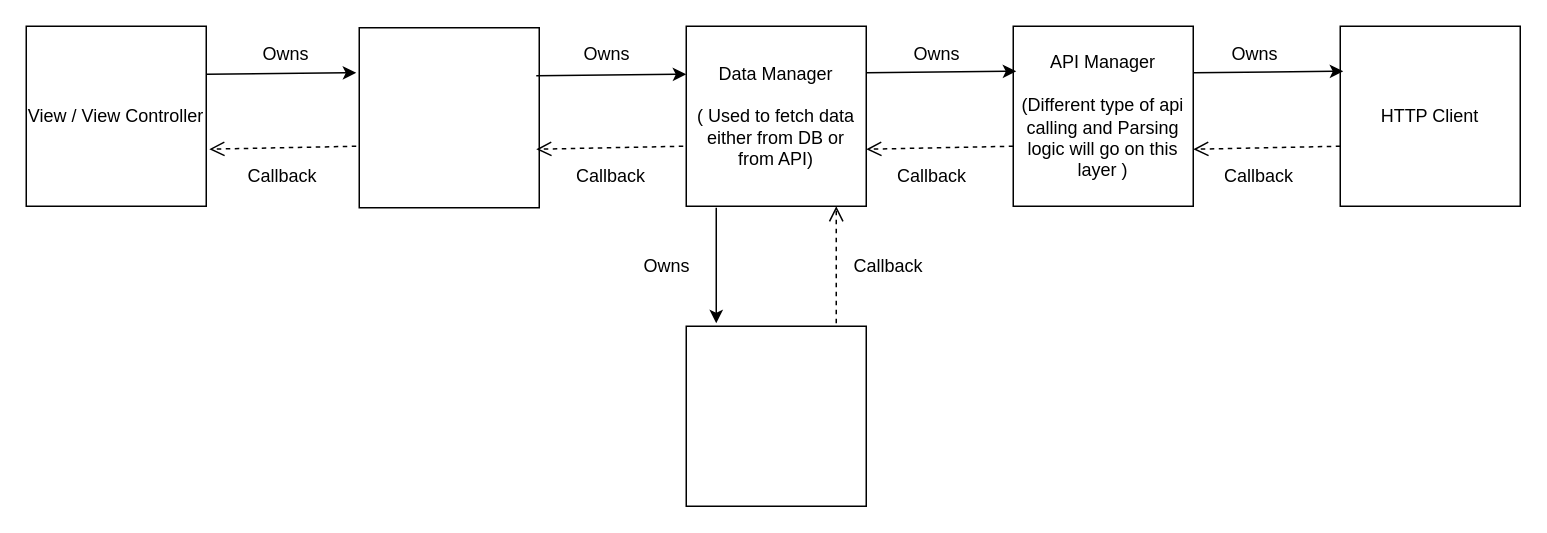
Image size: 1547x533. Some labels were removed from this diagram. Each missing label, with the centre of its shape:
"DB Manager" goes at [775,415].
"View Model" goes at [448,117].
